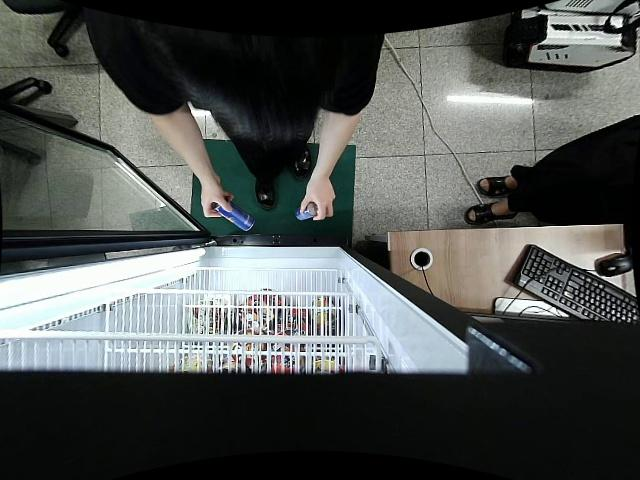00_hand: (199, 179, 235, 219), (300, 183, 335, 221)
16_hot6: (215, 197, 256, 233), (294, 203, 318, 223)
